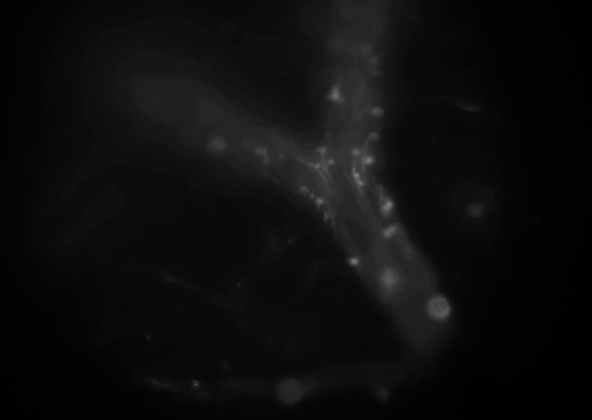cell: (433, 300, 447, 314), (369, 105, 383, 119), (349, 147, 363, 161), (362, 153, 376, 167), (314, 143, 328, 157), (309, 158, 323, 172), (323, 154, 337, 168), (326, 87, 340, 101), (348, 169, 362, 183), (333, 92, 347, 106), (354, 177, 368, 191), (347, 255, 361, 269), (381, 272, 395, 286), (381, 227, 395, 241), (382, 197, 396, 211), (385, 223, 399, 237), (380, 201, 394, 215), (310, 195, 324, 209), (297, 183, 311, 197), (253, 145, 267, 159), (212, 139, 226, 153), (359, 43, 373, 57), (367, 54, 381, 68), (332, 41, 346, 55), (367, 129, 381, 143), (260, 154, 274, 168), (327, 90, 341, 104)
